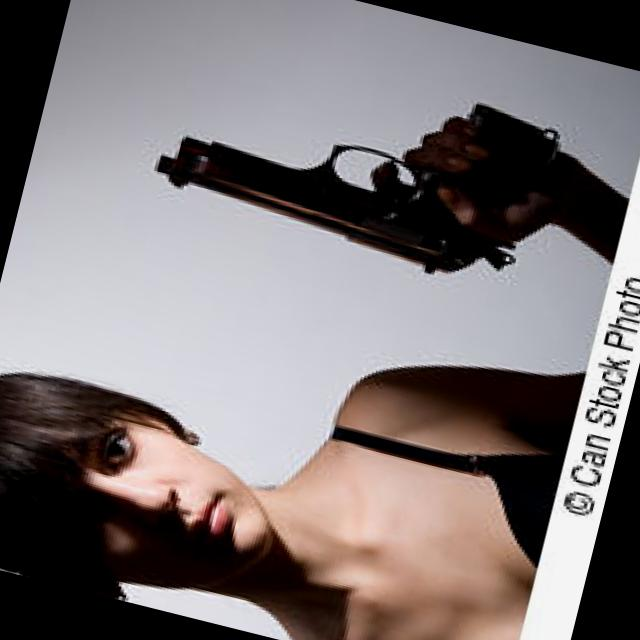handgun: (139, 39, 560, 298)
